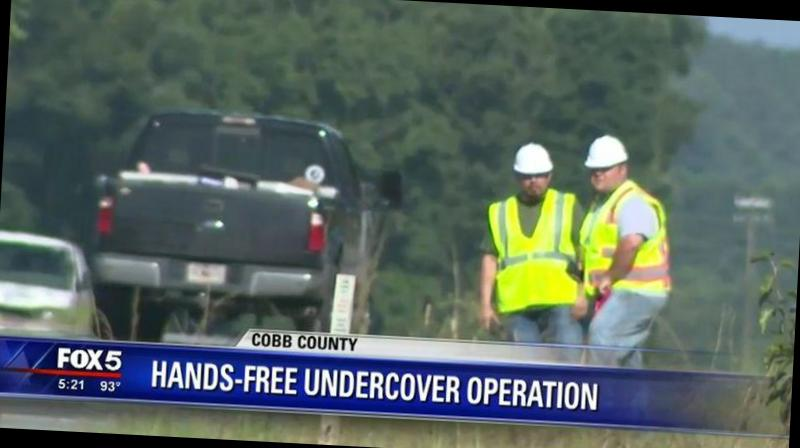Vest: (488, 187, 592, 328), (578, 190, 671, 305)
